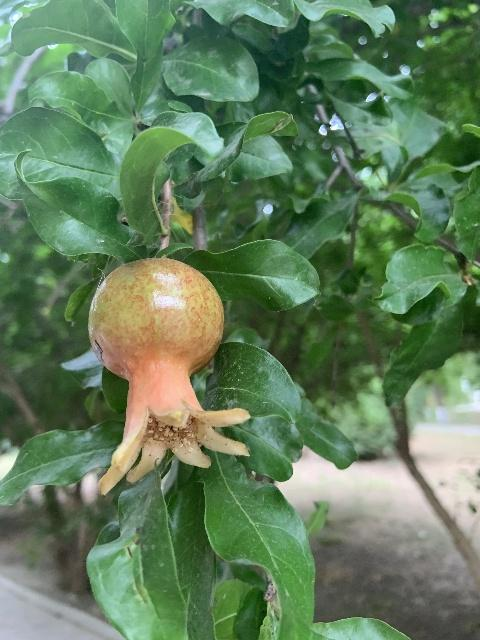early-fruit: (87, 257, 250, 495)
